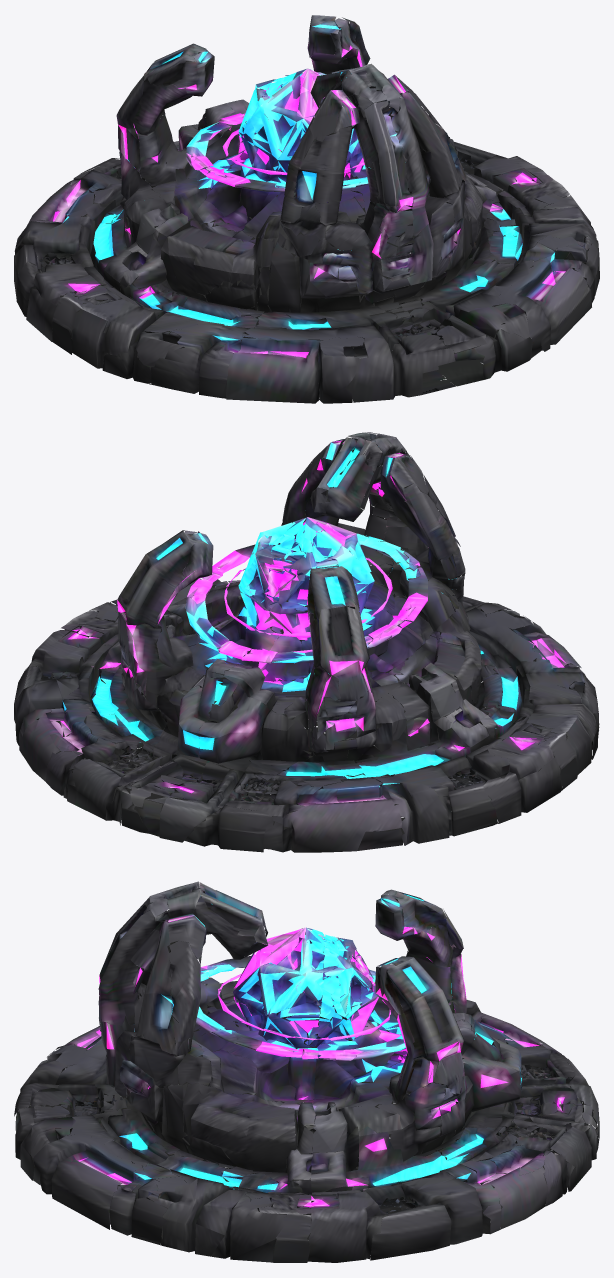
The model's file is warrior-3-tier-3.glb.
3 views of the same model, one above another, from view 1: azimuth 30°, elevation 25°; view 2: azimuth 150°, elevation 25°; view 3: azimuth 270°, elevation 25° (orthographic).
Visible parts, largest first — view 1: fixed-platform, moving-assembly; view 2: fixed-platform, moving-assembly; view 3: fixed-platform, moving-assembly.
Part boxes in pixels (x1,y1,x2,y2): fixed-platform: (14,126,599,403); moving-assembly: (116,15,482,307); fixed-platform: (14,579,599,852); moving-assembly: (117,432,481,738); fixed-platform: (14,981,599,1262); moving-assembly: (98,881,521,1151).
Bounding box in the file's own units: 0.83 × 0.3948 × 0.8283.
3 materials, 3 textured.
